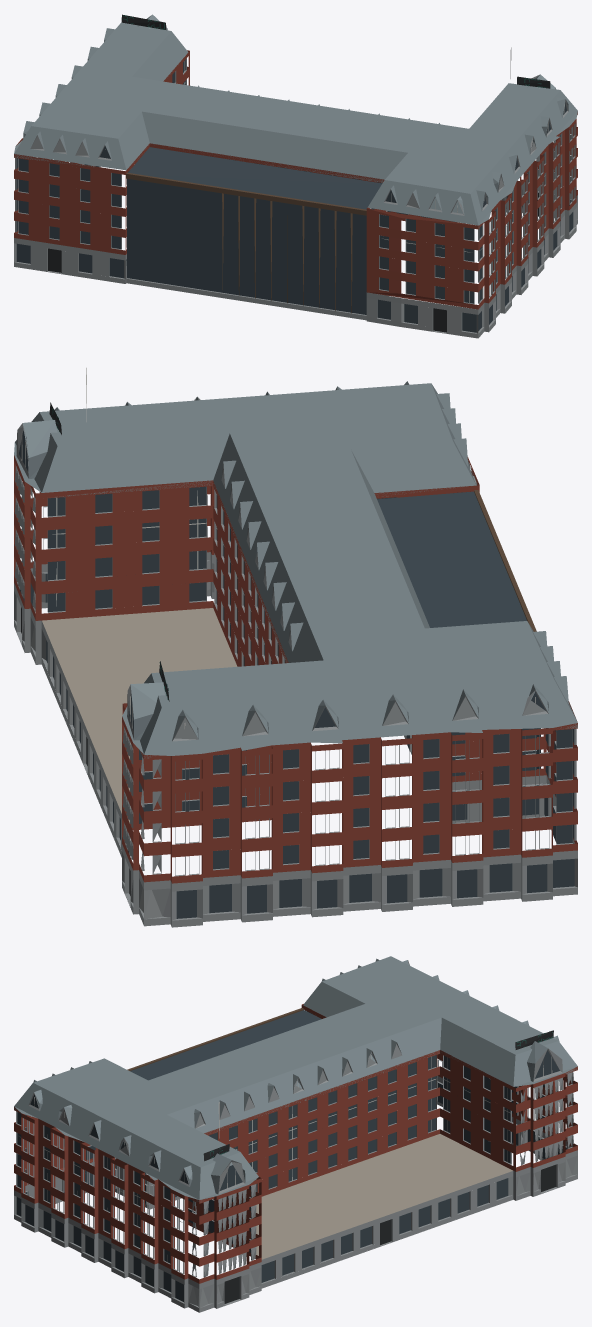
Rendered from hotel-boat-and-co.lod1.glb.
3 views of the same model, one above another, from view 1: azimuth 30°, elevation 25°; view 2: azimuth 150°, elevation 25°; view 3: azimuth 270°, elevation 25° (orthographic). The views are drawn at different scales.
Parts seen in each view (by area): view 1: hotel-boat-and-co; view 2: hotel-boat-and-co; view 3: hotel-boat-and-co.
Part boxes in pixels (x1=…): hotel-boat-and-co: x1=14, y1=14, x2=577, y2=338; hotel-boat-and-co: x1=14, y1=367, x2=577, y2=927; hotel-boat-and-co: x1=14, y1=956, x2=577, y2=1312.
Size of the model in its own units: 64.11 by 24 by 67.11.
